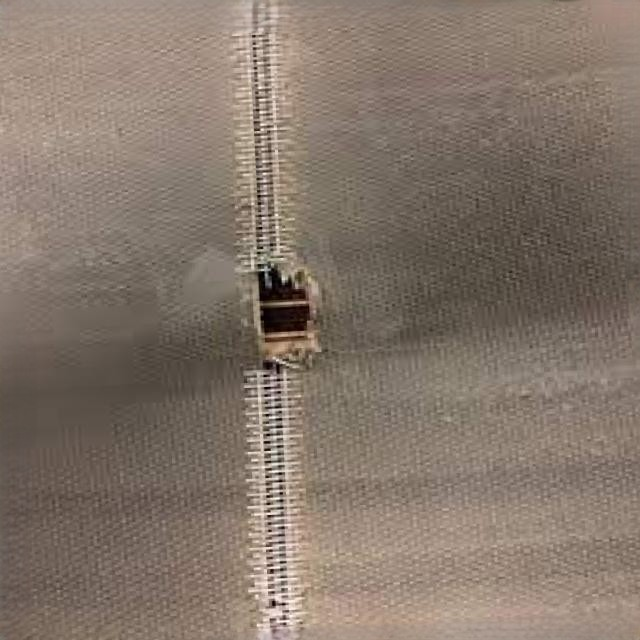Hole: (240, 256, 332, 382)
